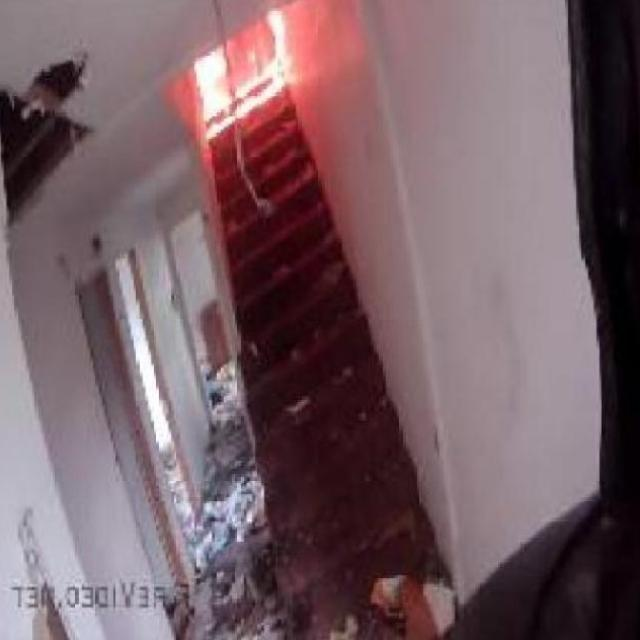smoke: (182, 0, 307, 143)
